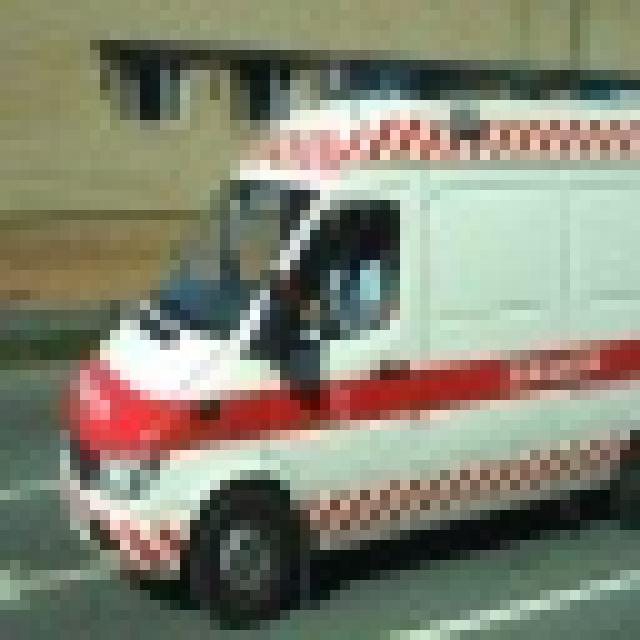Ambulance: (50, 80, 630, 620)
